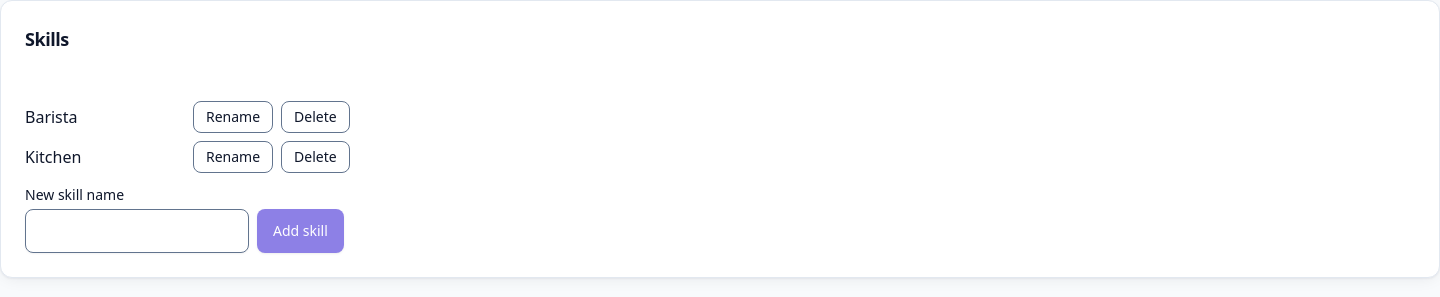
Test: SkillsSection › adds a skill
Step 1. Type "  Bar " into the field labelled "New skill name" → coordinates (137, 231), box [25, 209, 249, 253]
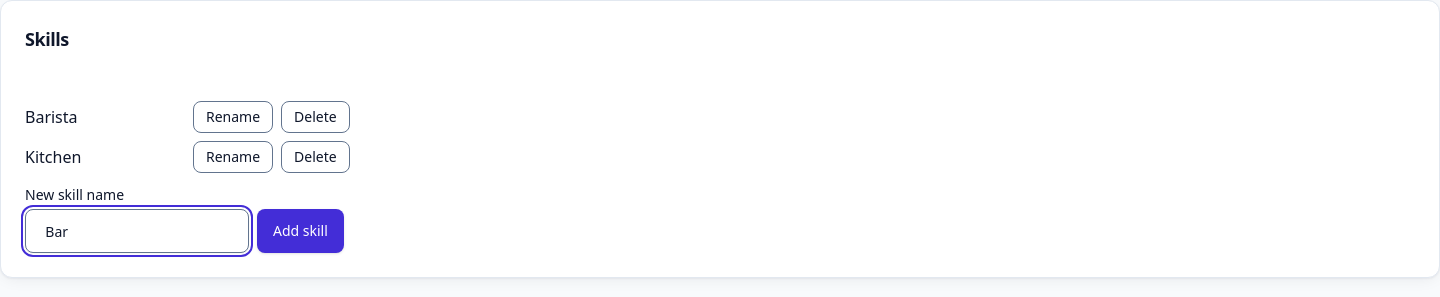
Step 2. Click the button "Add skill" → coordinates (300, 231), box [257, 209, 344, 253]
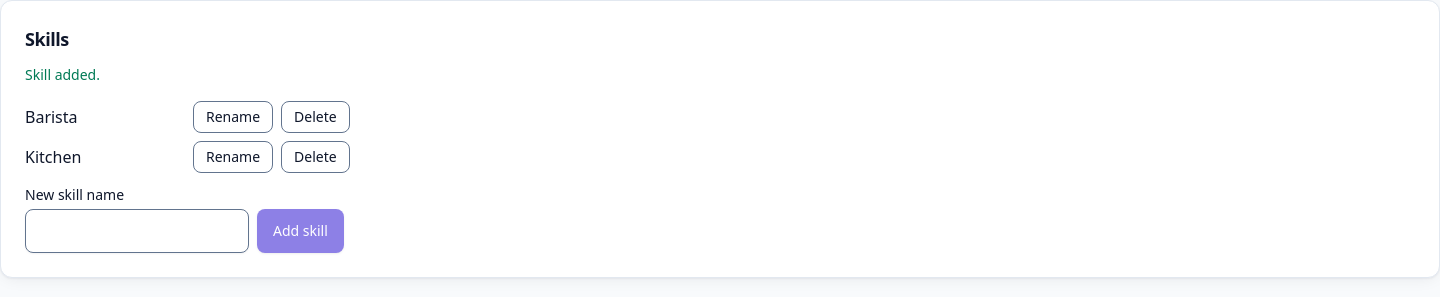
Expected: the text "Skill added." is shown, [25, 65, 100, 84]
